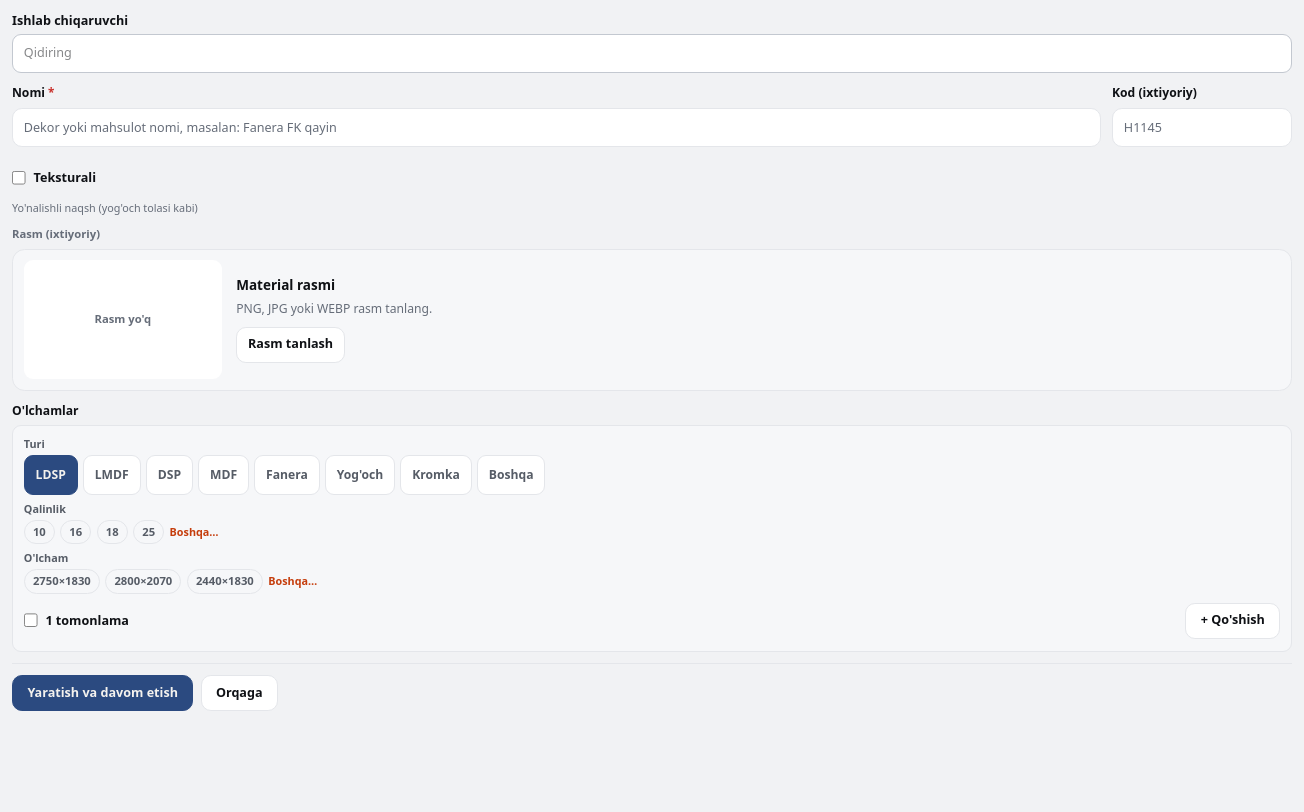
BranchDecorCreateForm — the workshop enters what the library lacks › refuses a submit with no o‘lcham, and names the field
Focus the dropdown labelled "Ishlab chiqaruvchi". click: (652, 53)
box: [12,34,1292,73]
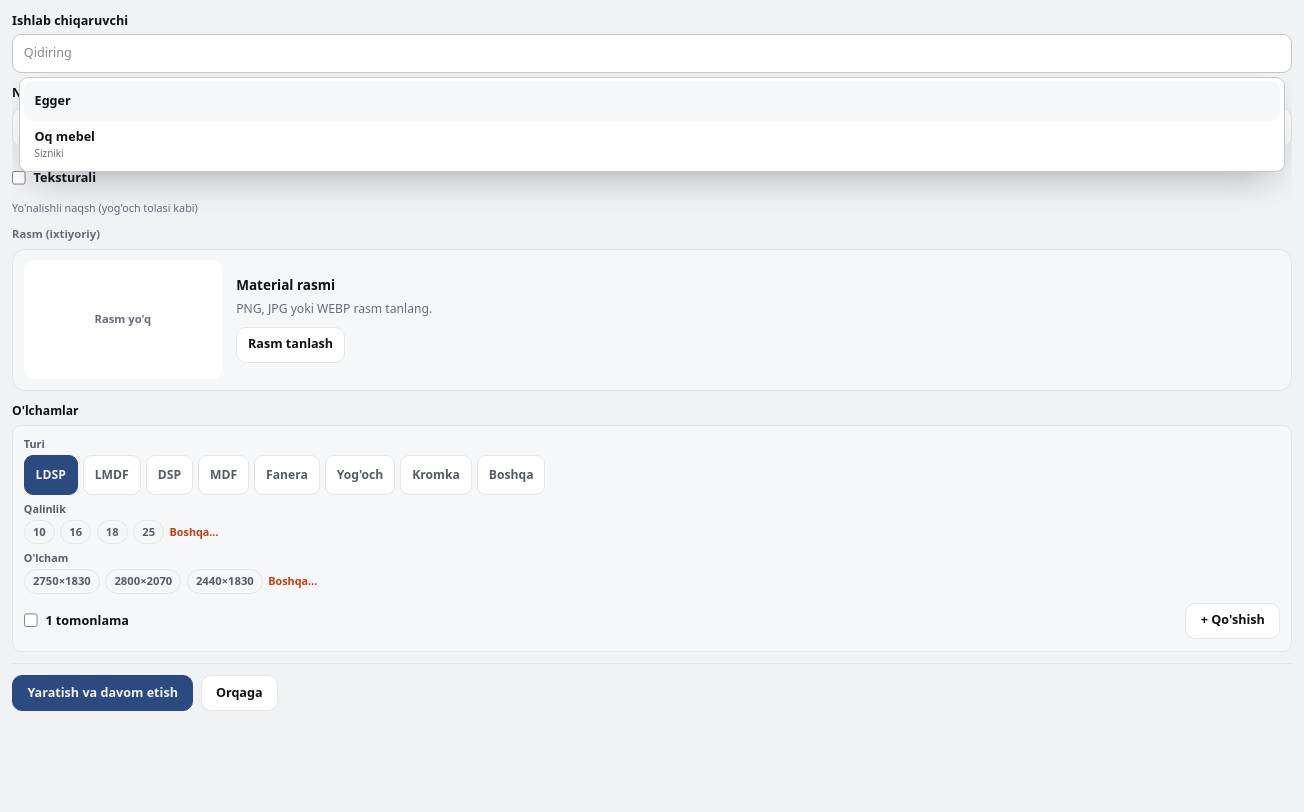
Click the option "Egger". click: (53, 101)
box: [24,81,1280,121]
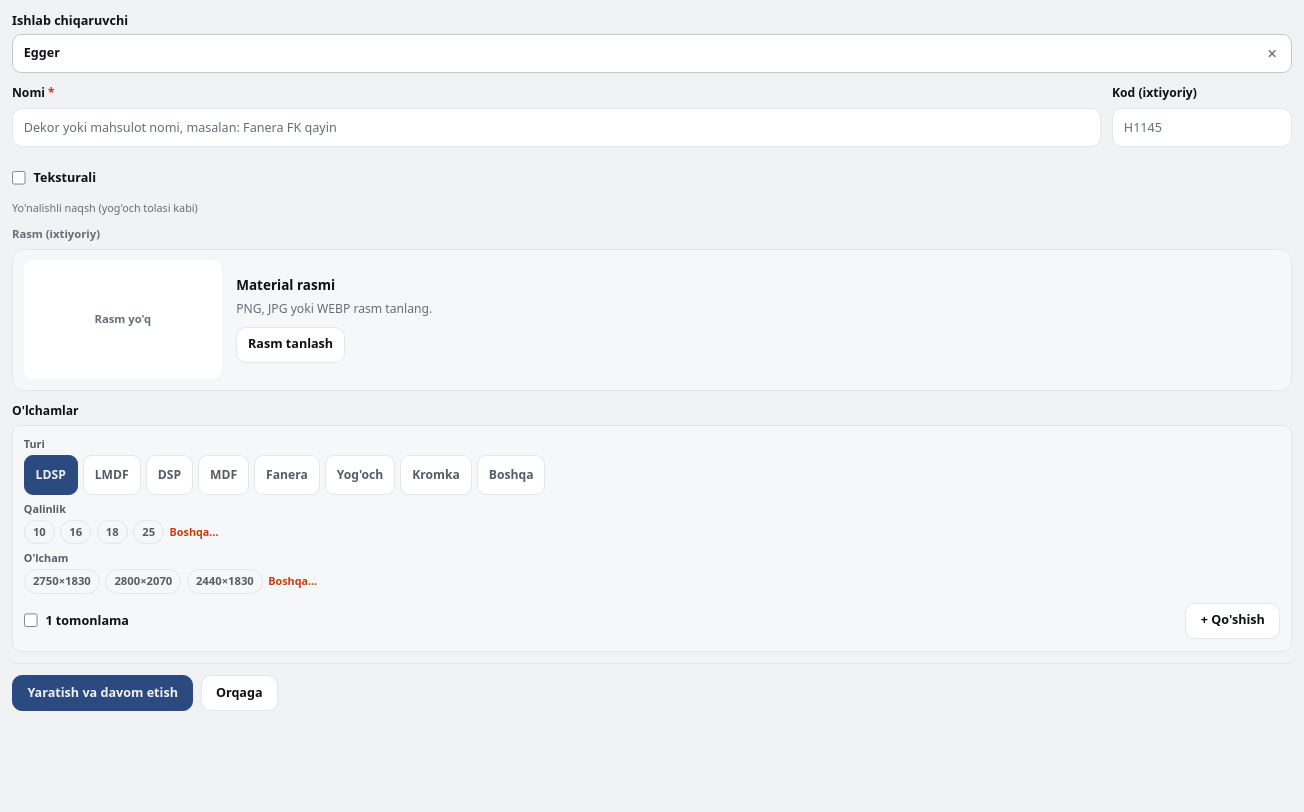
Type "Oq yog’och" into the field with id "branch-decor-name". click: (557, 127)
box: [12,108,1101,147]
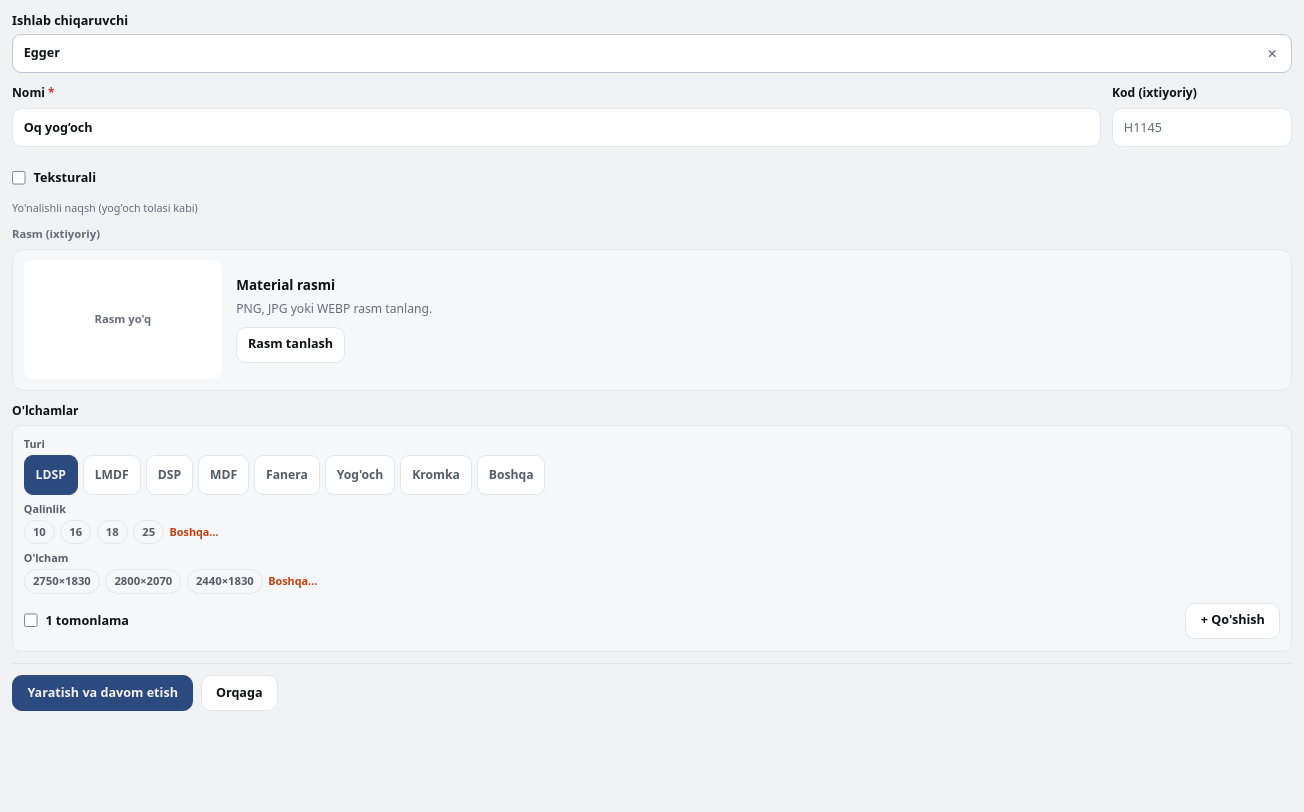
Submit the form
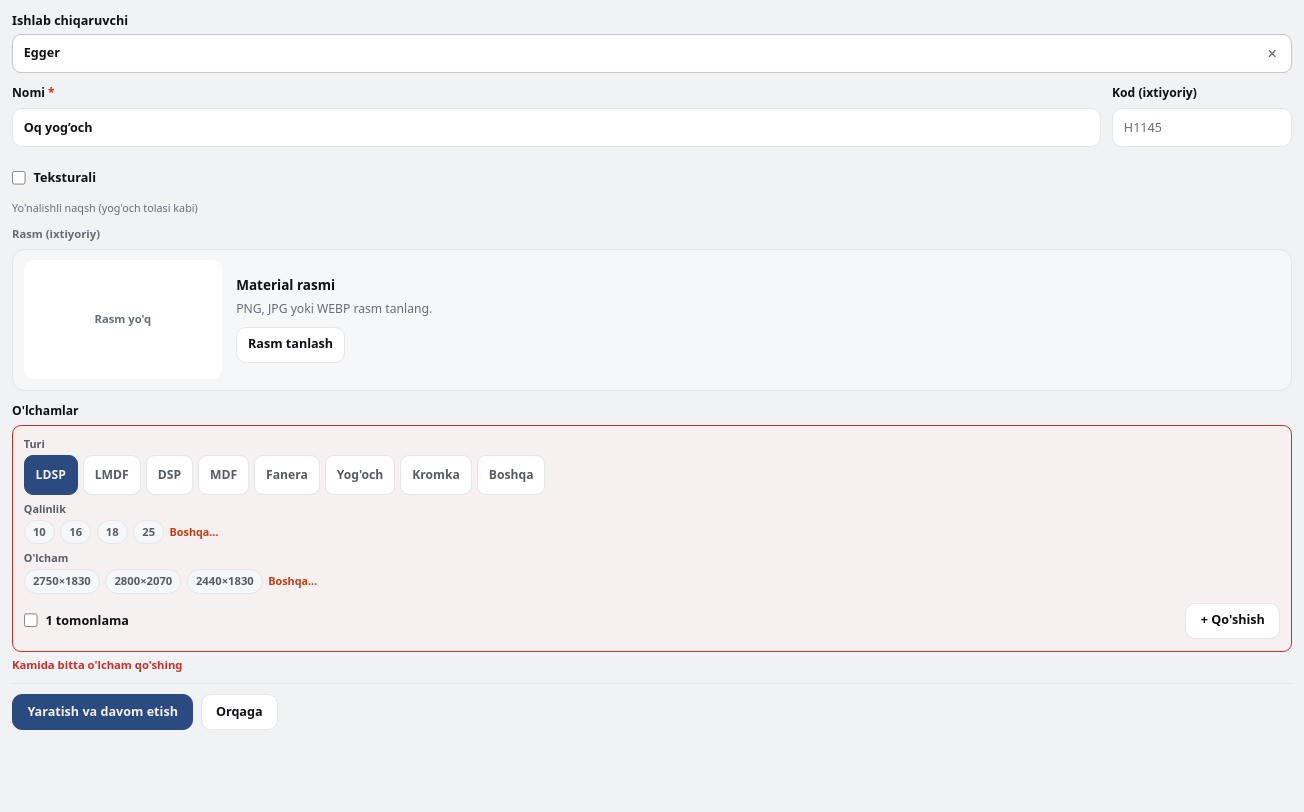
Check: the form shows "Kamida bitta o'lcham qo'shing", box [12,657,182,672]
